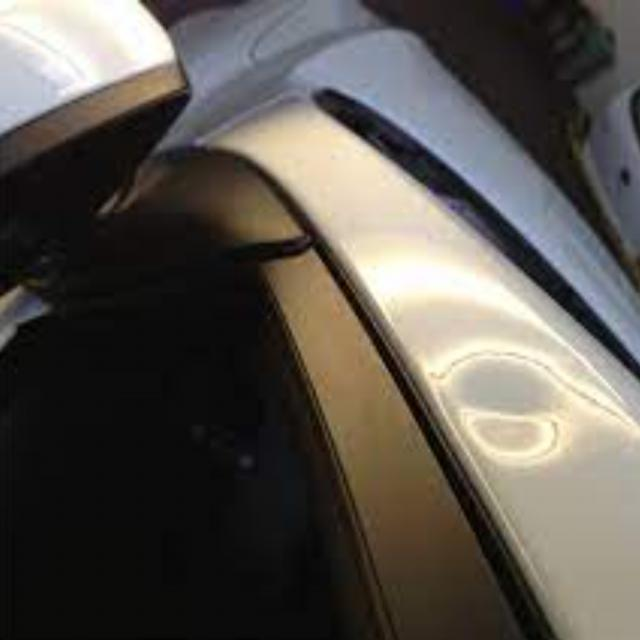dents: (431, 331, 558, 481)
